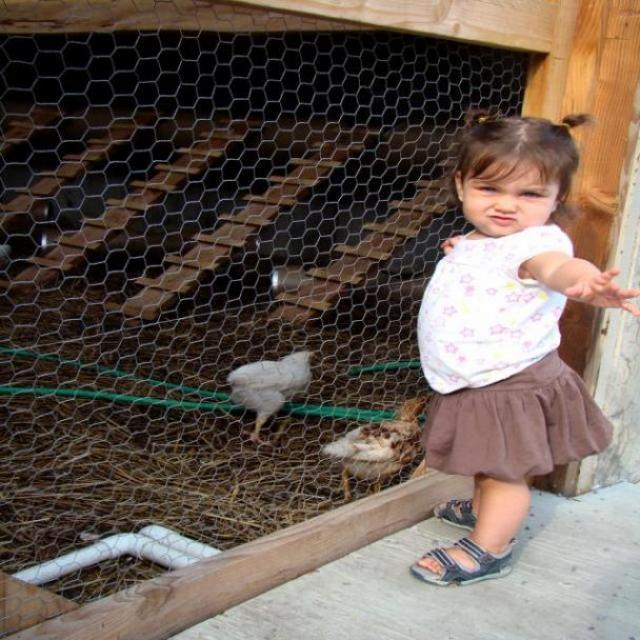Chicken: (320, 394, 427, 500), (226, 344, 325, 441)
